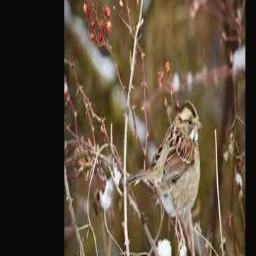Sparrow: (127, 101, 204, 234)
